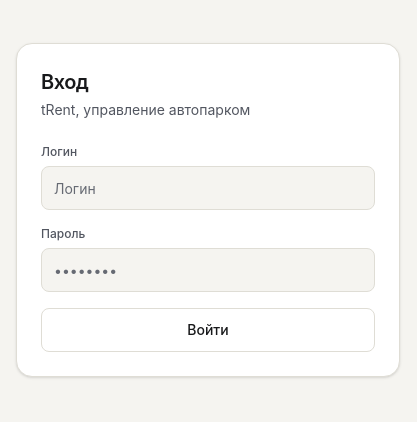
Test case: LoginPage › shows Russian server error on non-JSON 5xx responses instead of invalid-credentials text
Step 1. Type "admin" into the field labelled "Логин" → point(208, 188), box 41,166 -> 375,210
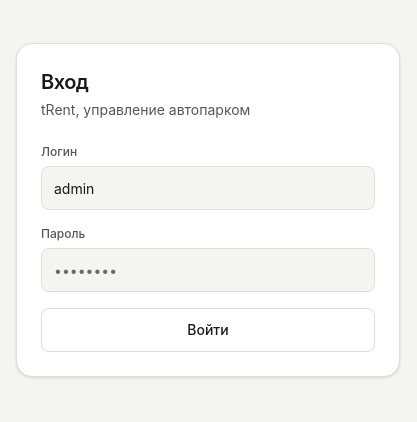
Step 2. Type "admin123" into the password field labelled "Пароль" → point(208, 270), box 41,248 -> 375,292
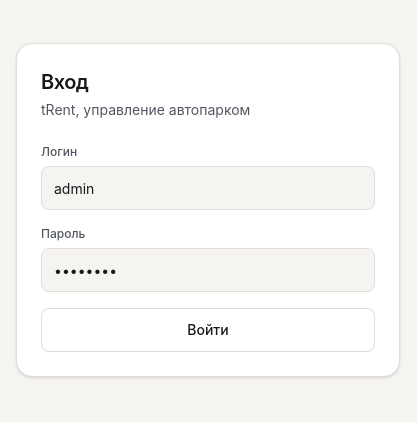
Step 3. Click the button "Войти" → point(208, 330), box 41,308 -> 375,352
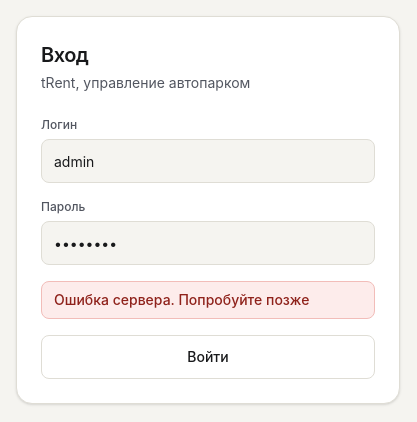
Expected: the message does not show "Неверный логин или пароль", 41,281 -> 375,319
Expected: the message reads "Ошибка сервера. Попробуйте позже", 54,291 -> 309,308
